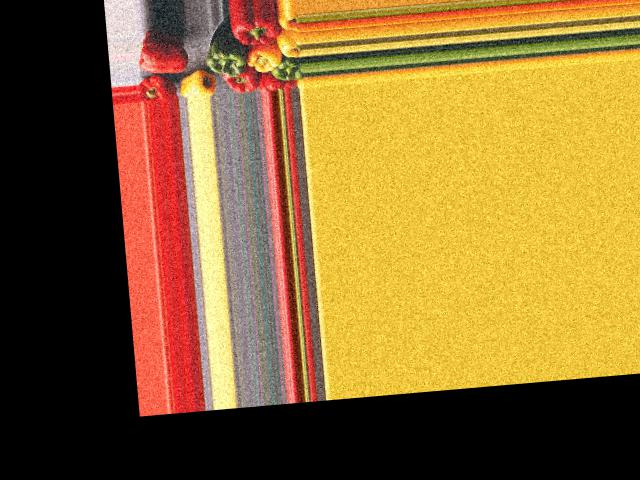bell_pepper: (137, 74, 177, 99)
